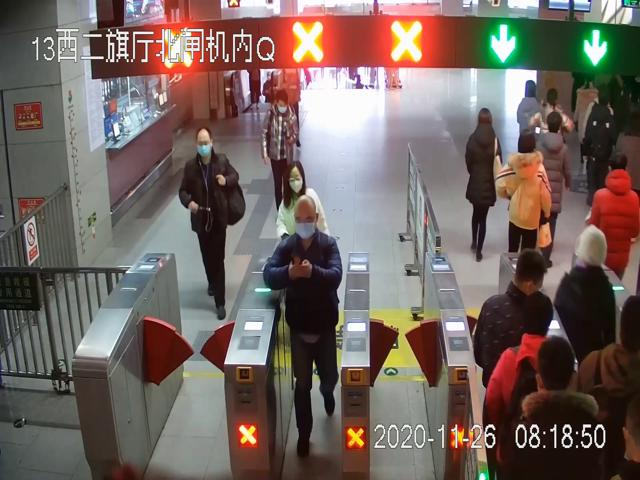person: (262, 194, 342, 456), (177, 127, 246, 320), (499, 128, 550, 252), (466, 106, 502, 261), (261, 89, 299, 223)
